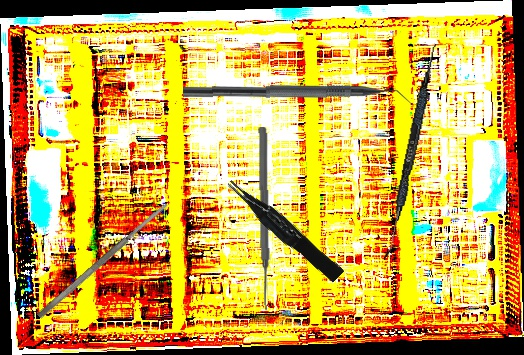Chopper: (182, 81, 415, 114)
Pusher: (256, 126, 272, 312)
Spatula Surgical: (35, 201, 171, 320), (383, 41, 439, 263)
Tissue Forceps: (224, 170, 345, 288)
